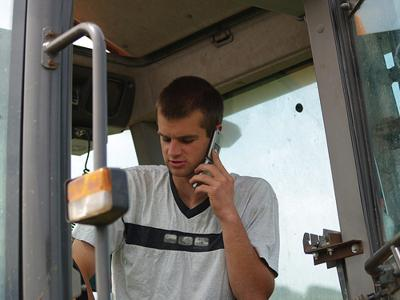person: (67, 74, 282, 300)
